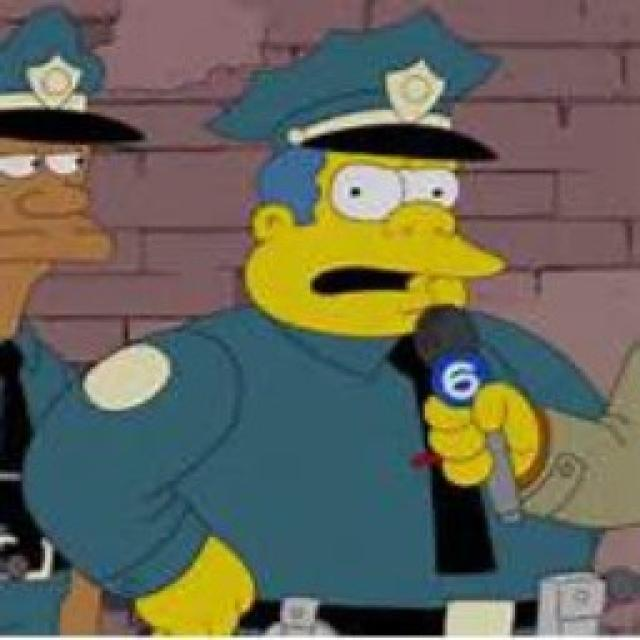Chief Wiggam: (200, 12, 505, 343)
